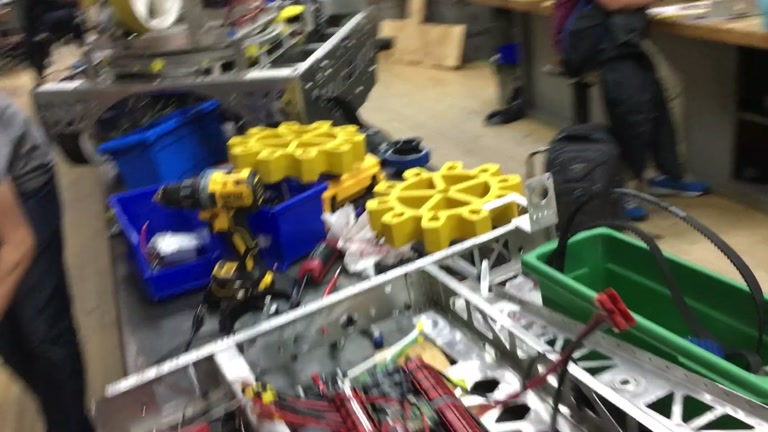gear: (366, 160, 523, 252), (225, 118, 365, 184)
